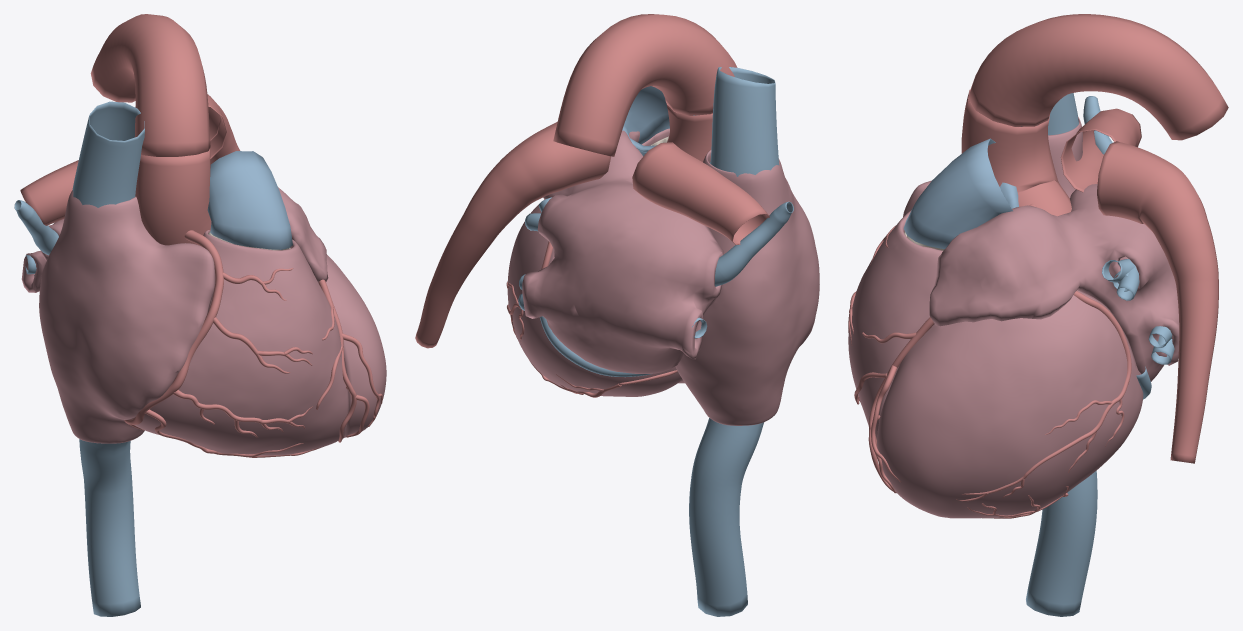
The picture shows the model from 3 angles, left to right: view 1: azimuth 30°, elevation 25°; view 2: azimuth 150°, elevation 25°; view 3: azimuth 270°, elevation 25°; orthographic projection. The views are drawn at different scales.
Parts seen in each view (by area): view 1: z_dd9470a0f74c, z_f36d47841d28, z_4aec9d66f9b6, z_a66c15177f96, z_cd7e10b1cd7e, z_dc5867ac09c6, z_ad6d9611c374, z_8571ae3da008, z_44ed1ae3f45a, z_8e79b7834756, z_58ea23579ca4, z_409932d1370c (+2 smaller); view 2: z_8e79b7834756, z_dd9470a0f74c, z_4aec9d66f9b6, z_89305b2b4895, z_a66c15177f96, z_58ea23579ca4, z_ad6d9611c374, z_44ed1ae3f45a, z_f41c6596f9cf, z_cd7e10b1cd7e, z_dc5867ac09c6, z_00d430ca201c; view 3: z_44ed1ae3f45a, z_8e79b7834756, z_4aec9d66f9b6, z_89305b2b4895, z_f36d47841d28, z_a66c15177f96, z_cd7e10b1cd7e, z_dc5867ac09c6, z_58ea23579ca4, z_6ff3a6e0ae66, z_409932d1370c, z_dd9470a0f74c (+4 smaller).
Part boxes in pixels (bbox=[...]): z_dd9470a0f74c: bbox=[39, 190, 214, 443]; z_f36d47841d28: bbox=[128, 230, 348, 455]; z_4aec9d66f9b6: bbox=[90, 14, 210, 156]; z_a66c15177f96: bbox=[79, 439, 140, 616]; z_cd7e10b1cd7e: bbox=[207, 151, 292, 249]; z_dc5867ac09c6: bbox=[135, 149, 211, 245]; z_ad6d9611c374: bbox=[72, 101, 144, 207]; z_8571ae3da008: bbox=[124, 230, 323, 457]; z_44ed1ae3f45a: bbox=[326, 255, 386, 438]; z_8e79b7834756: bbox=[21, 187, 328, 292]; z_58ea23579ca4: bbox=[20, 160, 78, 225]; z_409932d1370c: bbox=[316, 279, 382, 442]; z_8e79b7834756: bbox=[522, 130, 723, 373]; z_dd9470a0f74c: bbox=[675, 150, 819, 425]; z_4aec9d66f9b6: bbox=[553, 14, 737, 156]; z_89305b2b4895: bbox=[415, 122, 610, 348]; z_a66c15177f96: bbox=[689, 418, 763, 616]; z_58ea23579ca4: bbox=[632, 142, 769, 244]; z_ad6d9611c374: bbox=[710, 67, 779, 176]; z_44ed1ae3f45a: bbox=[507, 199, 682, 396]; z_f41c6596f9cf: bbox=[714, 201, 793, 286]; z_cd7e10b1cd7e: bbox=[622, 86, 694, 156]; z_dc5867ac09c6: bbox=[666, 104, 712, 161]; z_00d430ca201c: bbox=[539, 316, 652, 377]; z_44ed1ae3f45a: bbox=[877, 290, 1143, 518]; z_8e79b7834756: bbox=[929, 184, 1179, 381]; z_4aec9d66f9b6: bbox=[968, 14, 1228, 140]; z_89305b2b4895: bbox=[1097, 141, 1218, 463]; z_f36d47841d28: bbox=[848, 210, 942, 439]; z_a66c15177f96: bbox=[1026, 471, 1097, 616]; z_cd7e10b1cd7e: bbox=[903, 138, 1018, 249]; z_dc5867ac09c6: bbox=[961, 89, 1071, 216]; z_58ea23579ca4: bbox=[1061, 108, 1141, 192]; z_6ff3a6e0ae66: bbox=[956, 291, 1131, 501]; z_409932d1370c: bbox=[854, 317, 934, 493]; z_dd9470a0f74c: bbox=[903, 117, 1082, 216].
Bounding box in the file's own units: 1.07 × 1.8 × 0.9893.
